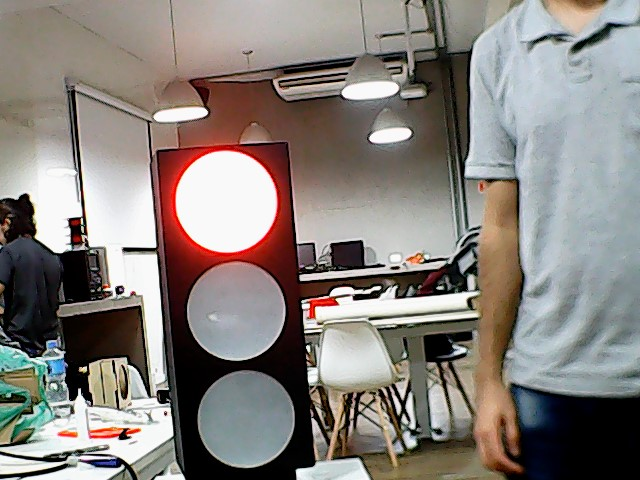vermelho: (130, 141, 326, 480)
